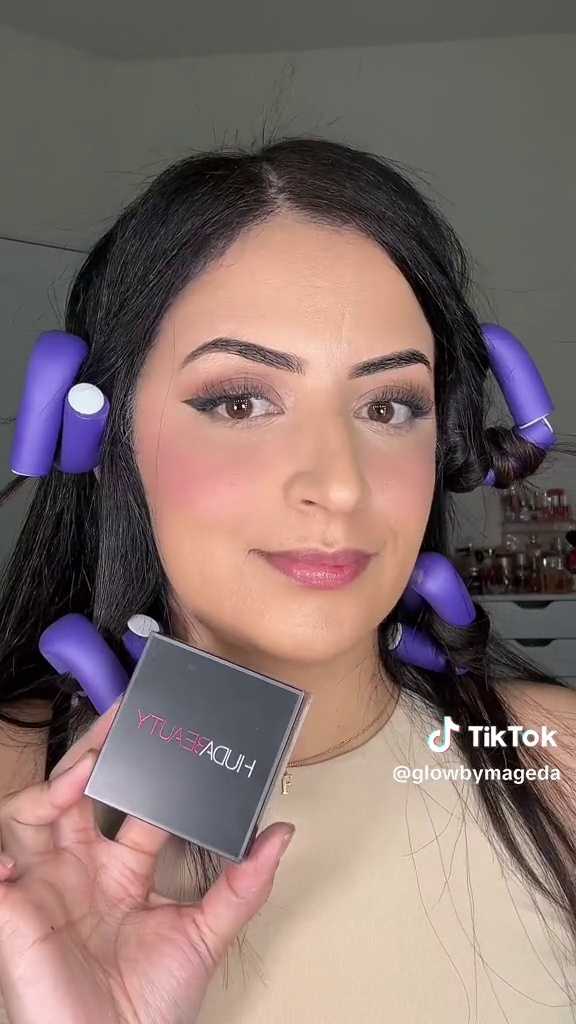train' :'yolo_data/train/images',: (73, 621, 317, 869)
